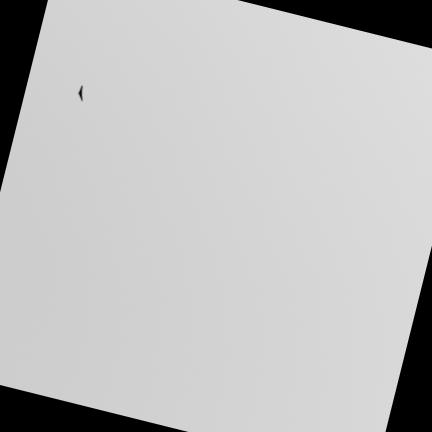Shahed: (78, 82, 83, 101)
